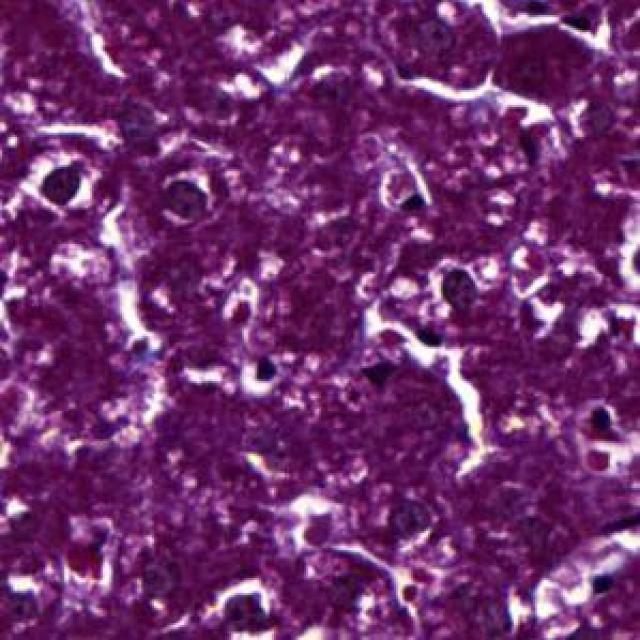inflammation: (26, 144, 105, 218), (19, 145, 103, 212), (209, 573, 284, 640), (203, 582, 287, 640), (572, 402, 636, 467), (428, 261, 495, 317)
